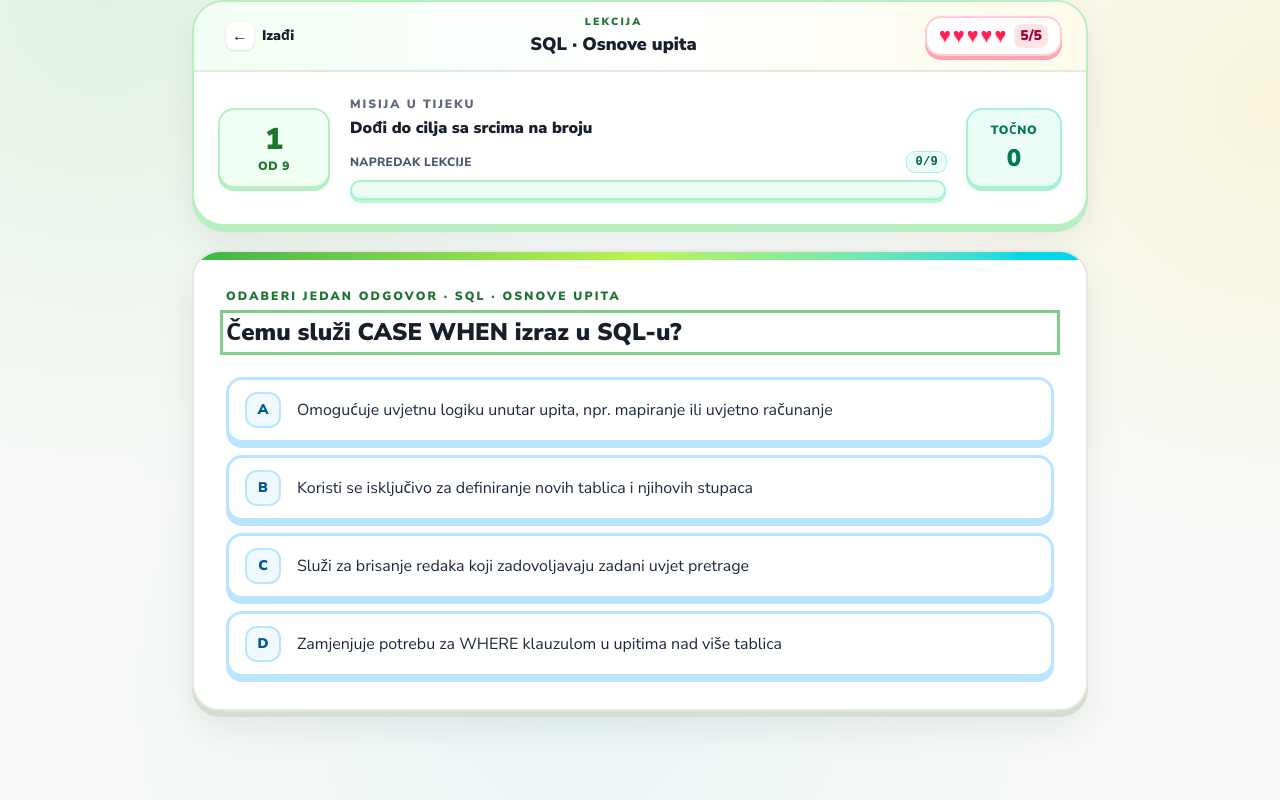
Test: LessonPage › krivi odgovor troši srce IZ TRAJNE zalihe, ne samo s prikaza
The width and height of the screenshot is (1280, 800).
Expected: the heading "Čemu služi CASE WHEN izraz u SQL-u?" is shown, [226,316,682,348]
Click the button "Koristi se isključivo za definiranje novih tablica i njihovih stupaca".
click(640, 488)  # box [226,455,1054,521]
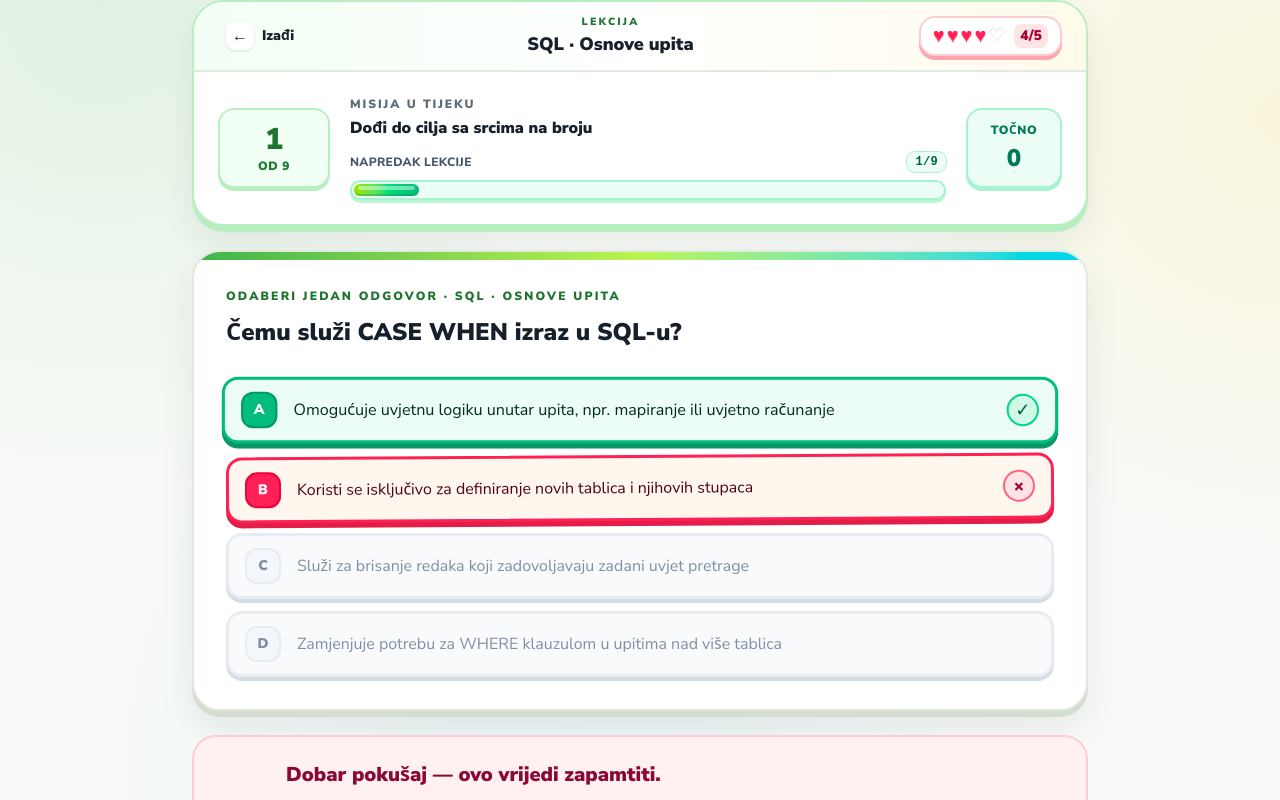
Result: the message named "Preostala srca: 4" is shown at [919,16,1062,56]
